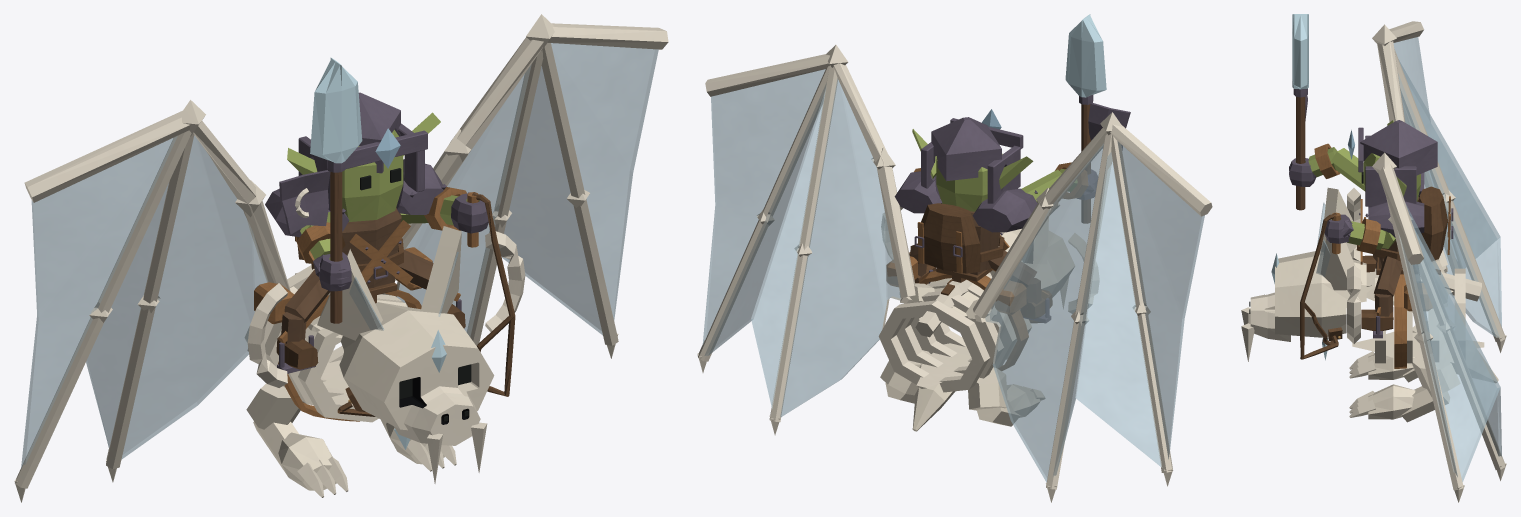
Rendered from host_35-wraith.glb.
3 renders of one model, left to right at view 1: azimuth 30°, elevation 25°; view 2: azimuth 150°, elevation 25°; view 3: azimuth 270°, elevation 25°, orthographic. The views are drawn at different scales.
Visible parts, largest first — view 1: Bat source connected muzzle, skull, native limbs and membran, Rider one connected body, skull, ears, two arms, compact pal, Rider RIGHT source weapon real volumetric blade, Source actual purple moon pennant on RIGHT spear, True open spectral crescent root frame 1, Rider real shaped source torso clothing shell, Rider source four broad planes purple iron crown cap, Rider RIGHT source weapon actual wood handle, True open spectral crescent root frame -1, Rider actual convex three-plane source pauldron -1, Rider source flat purple iron brow band, Rider connected bridle rein 1 (+5 smaller); view 2: Bat source connected muzzle, skull, native limbs and membran, Rider one connected body, skull, ears, two arms, compact pal, Rider source four broad planes purple iron crown cap, Rider actual source broad rear leather pack, Rider RIGHT source weapon real volumetric blade, Rider actual convex three-plane source pauldron 1, Rider actual convex three-plane source pauldron -1, Fitted torso girth below wing roots, Rider source iron cheek side 1, Rider compact source saddle pouch 1, Source actual purple moon pennant on RIGHT spear, Rider RIGHT source weapon actual wood handle (+2 smaller); view 3: Bat source connected muzzle, skull, native limbs and membran, Rider one connected body, skull, ears, two arms, compact pal, Rider source four broad planes purple iron crown cap, Rider actual source broad rear leather pack, Rider RIGHT source weapon real volumetric blade, Rider source iron cheek side -1, Fitted torso girth below wing roots, True open spectral crescent root frame -1, Rider actual convex three-plane source pauldron -1, Rider RIGHT source weapon actual wood handle, Rider connected bridle rein 1, Rider connected bridle rein -1 (+4 smaller).
Boxes of the visible parts, x1,y1,x2,y2 form: Bat source connected muzzle, skull, native limbs and membran: (14, 14, 668, 502); Rider one connected body, skull, ears, two arms, compact pal: (276, 112, 488, 369); Rider RIGHT source weapon real volumetric blade: (310, 57, 362, 163); Source actual purple moon pennant on RIGHT spear: (279, 170, 330, 234); True open spectral crescent root frame 1: (247, 283, 287, 387); Rider real shaped source torso clothing shell: (342, 207, 401, 288); Rider source four broad planes purple iron crown cap: (312, 92, 400, 173); Rider RIGHT source weapon actual wood handle: (330, 172, 342, 323); True open spectral crescent root frame -1: (485, 231, 525, 331); Rider actual convex three-plane source pauldron -1: (396, 159, 443, 214); Rider source flat purple iron brow band: (345, 130, 427, 169); Rider connected bridle rein 1: (337, 192, 513, 416); Bat source connected muzzle, skull, native limbs and membran: (697, 45, 1212, 502); Rider one connected body, skull, ears, two arms, compact pal: (909, 129, 1097, 318); Rider source four broad planes purple iron crown cap: (931, 117, 1001, 181); Rider actual source broad rear leather pack: (921, 203, 980, 273); Rider RIGHT source weapon real volumetric blade: (1065, 14, 1106, 97); Rider actual convex three-plane source pauldron 1: (972, 188, 1037, 232); Rider actual convex three-plane source pauldron -1: (894, 171, 942, 213); Fitted torso girth below wing roots: (918, 271, 1028, 370); Rider source iron cheek side 1: (987, 145, 1020, 203); Rider compact source saddle pouch 1: (995, 281, 1026, 314); Source actual purple moon pennant on RIGHT spear: (1088, 103, 1130, 149); Rider RIGHT source weapon actual wood handle: (1081, 104, 1090, 223); Bat source connected muzzle, skull, native limbs and membran: (1250, 21, 1506, 502); Rider one connected body, skull, ears, two arms, compact pal: (1289, 120, 1420, 330); Rider source four broad planes purple iron crown cap: (1360, 120, 1437, 180); Rider actual source broad rear leather pack: (1419, 186, 1447, 261); Rider RIGHT source weapon real volumetric blade: (1292, 14, 1308, 89); Rider source iron cheek side -1: (1365, 166, 1416, 206); Fitted torso girth below wing roots: (1394, 269, 1440, 368); True open spectral crescent root frame -1: (1347, 266, 1360, 343); Rider actual convex three-plane source pauldron -1: (1368, 201, 1424, 237); Rider RIGHT source weapon actual wood handle: (1296, 96, 1305, 210); Rider connected bridle rein 1: (1304, 213, 1336, 345); Rider connected bridle rein -1: (1300, 274, 1338, 359).
Size of the model in its own units: 4.92 by 3.65 by 2.36.
Materials: 29 (25 with a texture image).
